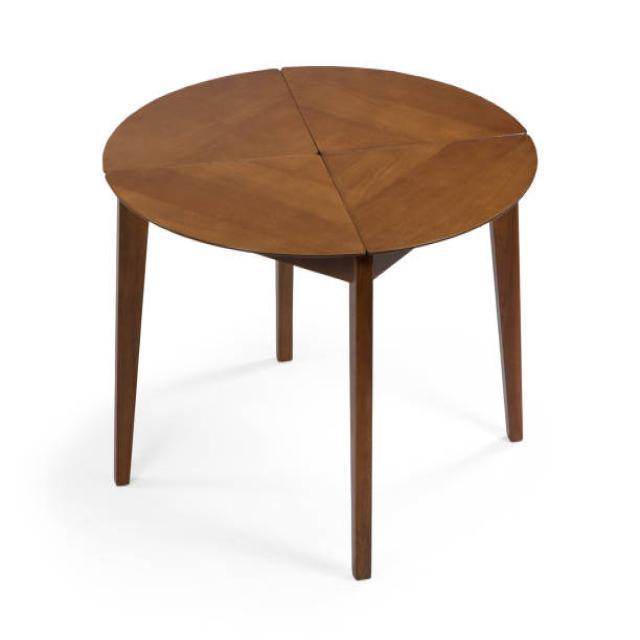table: (101, 64, 538, 580)
